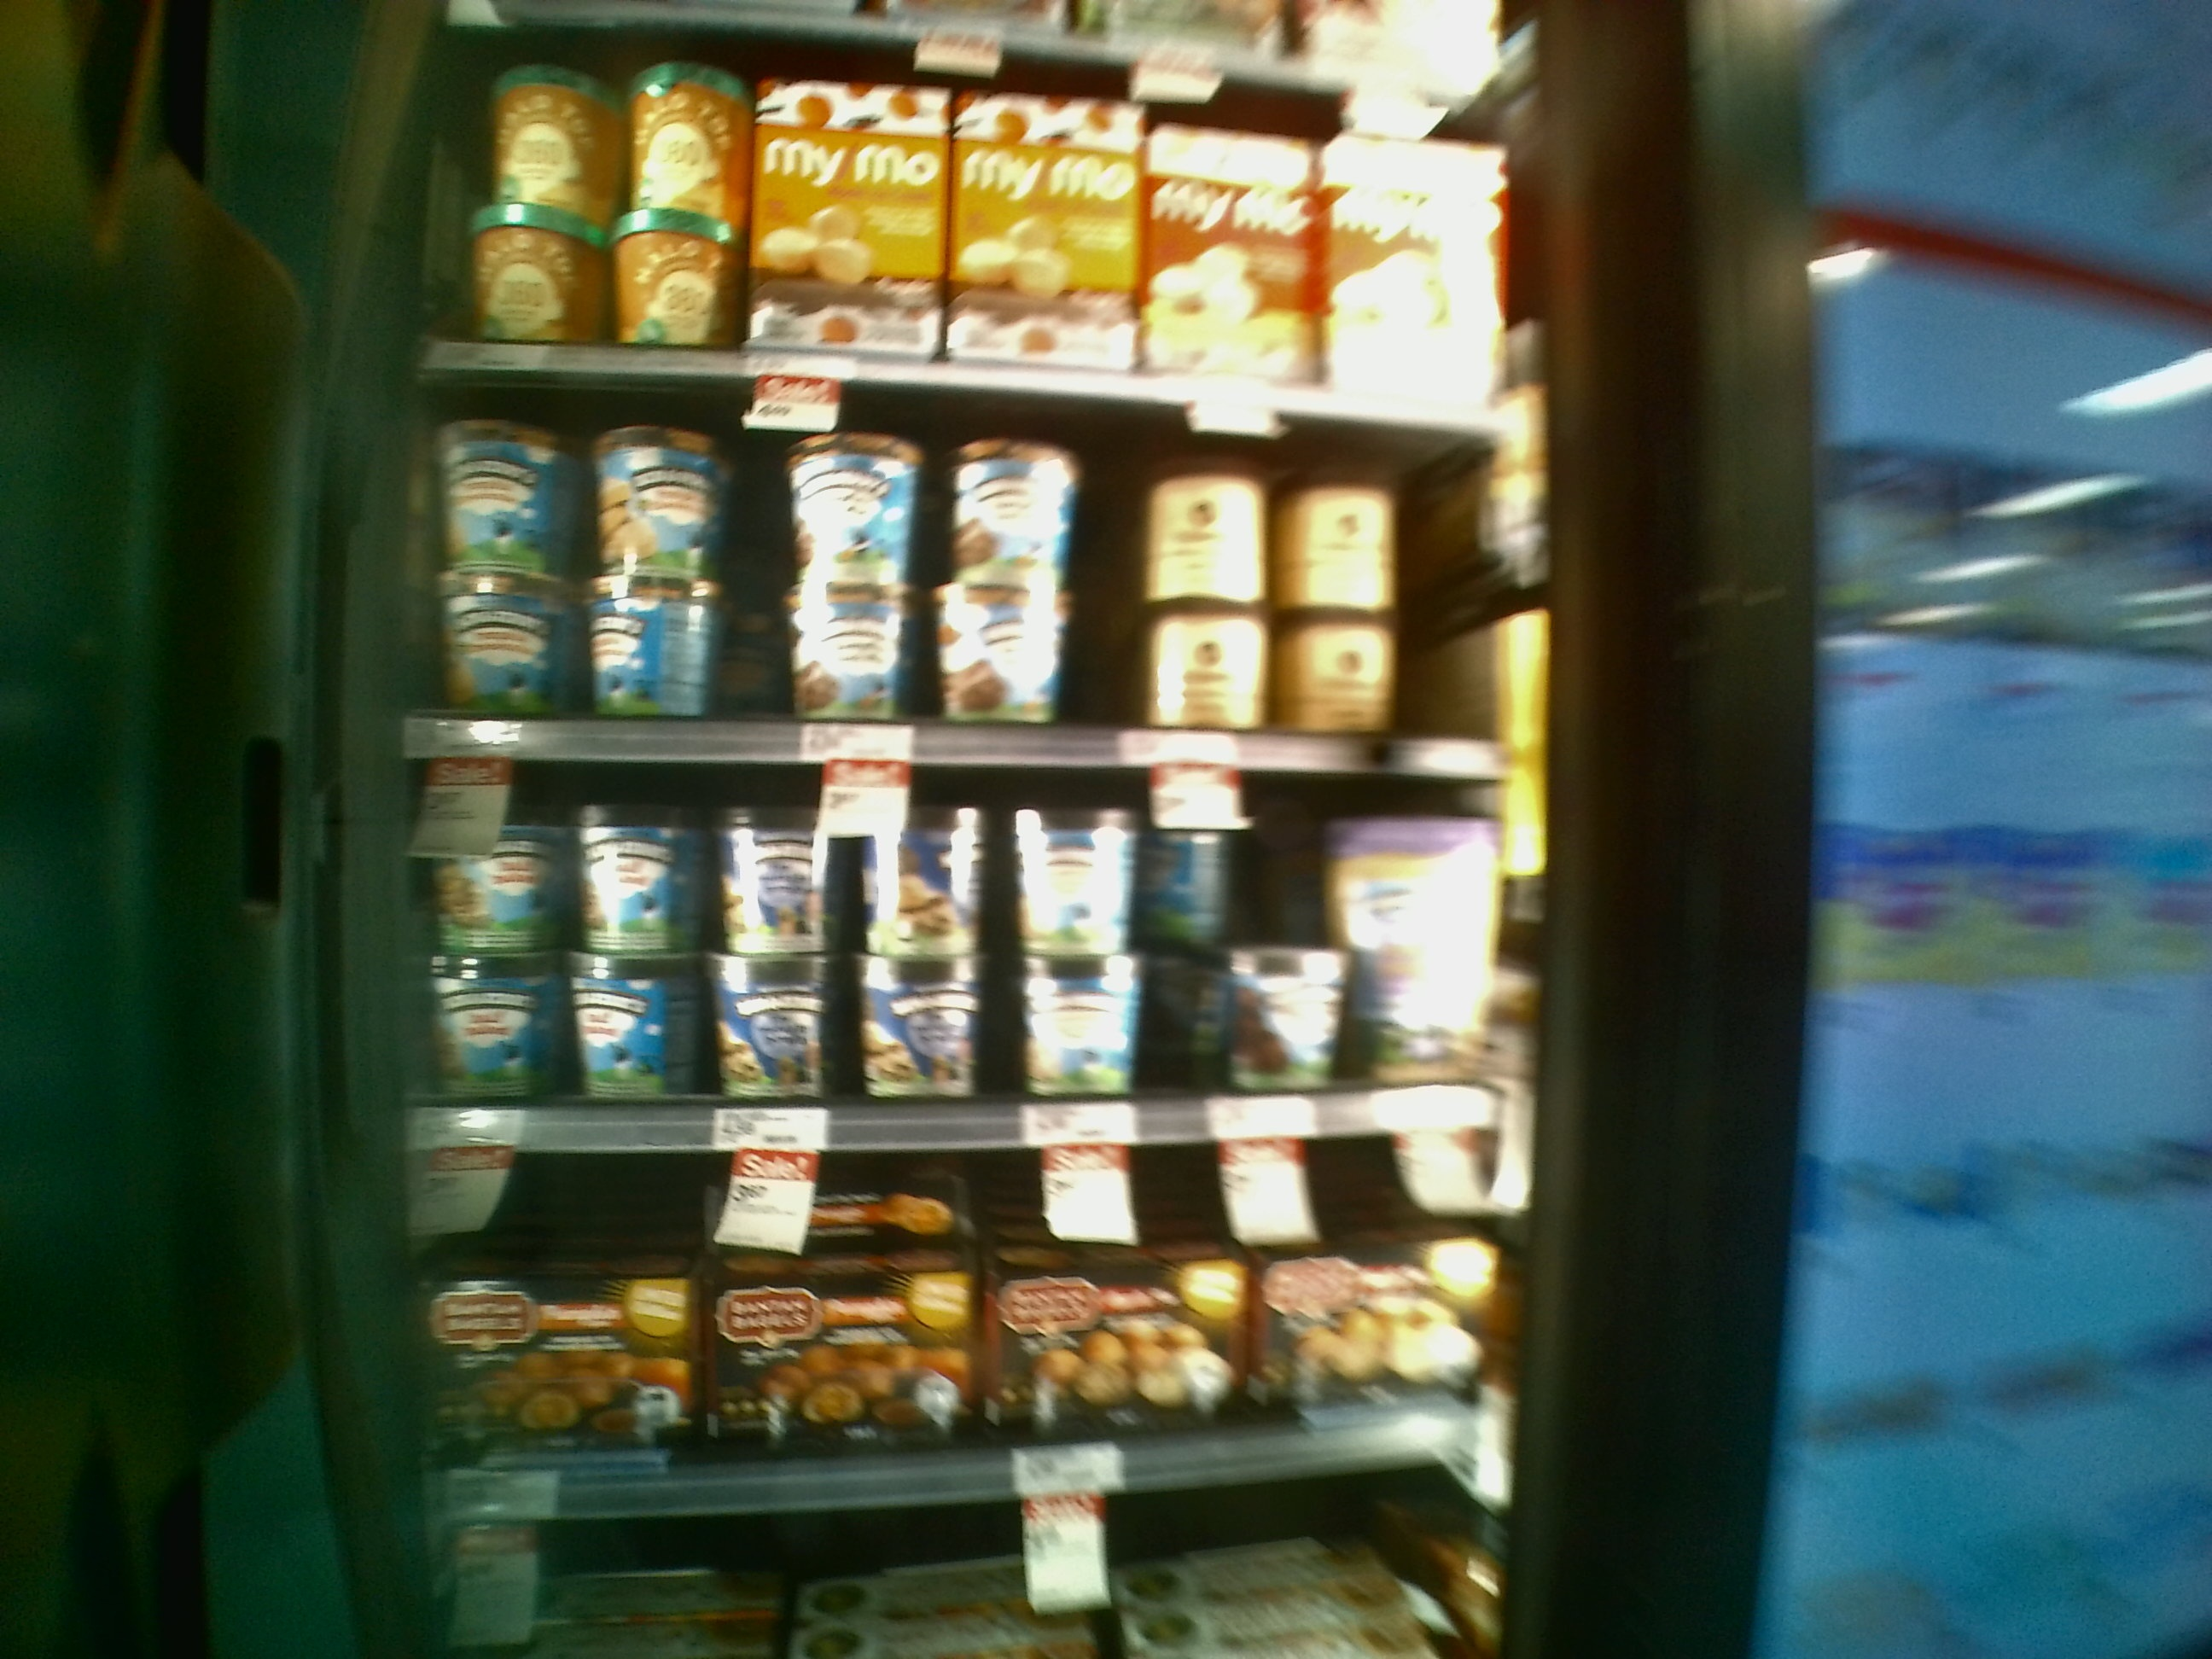shelf: (388, 735, 1569, 1161), (404, 349, 1545, 781), (350, 1134, 1519, 1490)
